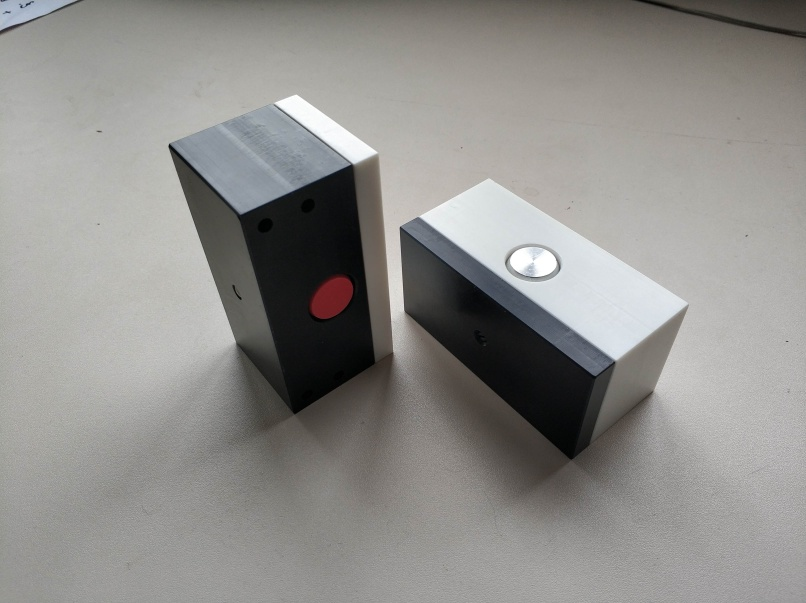black+white+silver: (398, 177, 691, 464)
white+black+red: (165, 90, 396, 417)
